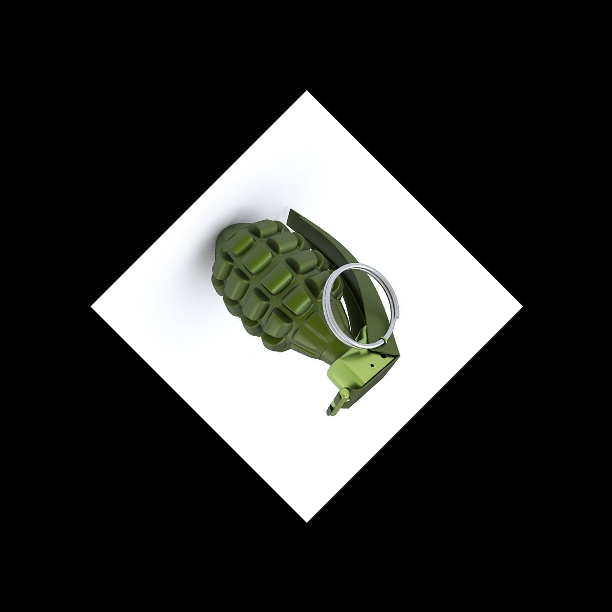e1: (210, 206, 401, 415)
